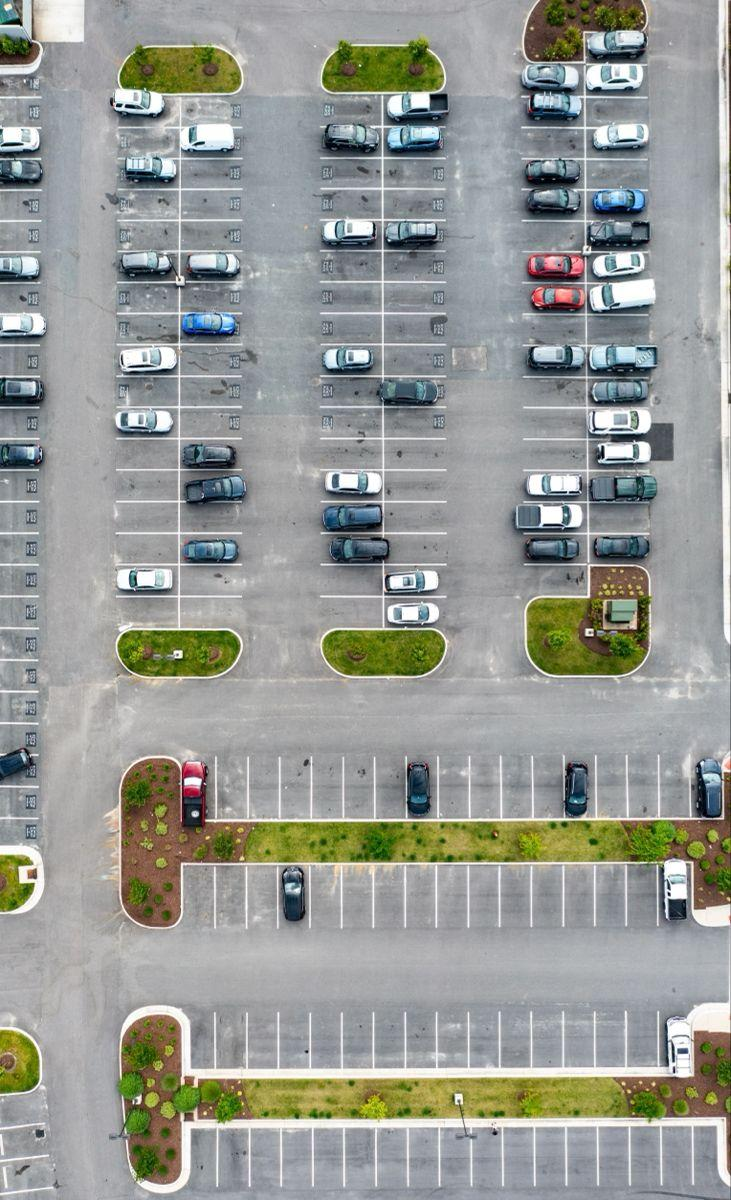car: (582, 336, 657, 379), (114, 86, 182, 131), (381, 559, 454, 600), (314, 529, 391, 567), (582, 184, 655, 224), (173, 309, 248, 347), (380, 371, 453, 410), (174, 435, 247, 474), (317, 213, 386, 254), (519, 90, 588, 131), (586, 432, 651, 475), (380, 119, 448, 160), (114, 402, 182, 443), (582, 280, 657, 317), (582, 248, 653, 287), (586, 468, 657, 507), (381, 596, 452, 635), (379, 216, 448, 256), (178, 467, 247, 507), (521, 497, 590, 537), (581, 125, 655, 162), (519, 182, 589, 221), (113, 339, 183, 378), (520, 466, 590, 505), (176, 531, 247, 569), (111, 560, 182, 598), (582, 58, 651, 97), (519, 153, 588, 192), (585, 215, 653, 254), (317, 498, 385, 537), (319, 464, 386, 503), (586, 403, 653, 442), (176, 123, 246, 160), (522, 343, 592, 380), (583, 30, 651, 68), (521, 280, 590, 317), (522, 248, 589, 286), (319, 340, 386, 378), (319, 121, 384, 160), (519, 60, 589, 96), (586, 531, 653, 568), (526, 530, 591, 568), (180, 249, 251, 283), (585, 372, 652, 408), (116, 154, 180, 191), (655, 1011, 695, 1070), (113, 249, 184, 282), (380, 91, 450, 123), (0, 157, 48, 194), (1, 371, 44, 411), (1, 125, 44, 160)
